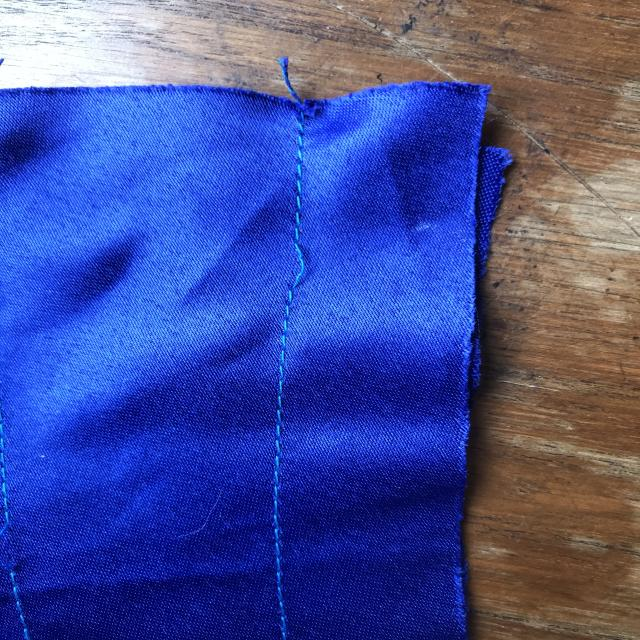good: (270, 368, 305, 464)
skip: (260, 227, 328, 313)
